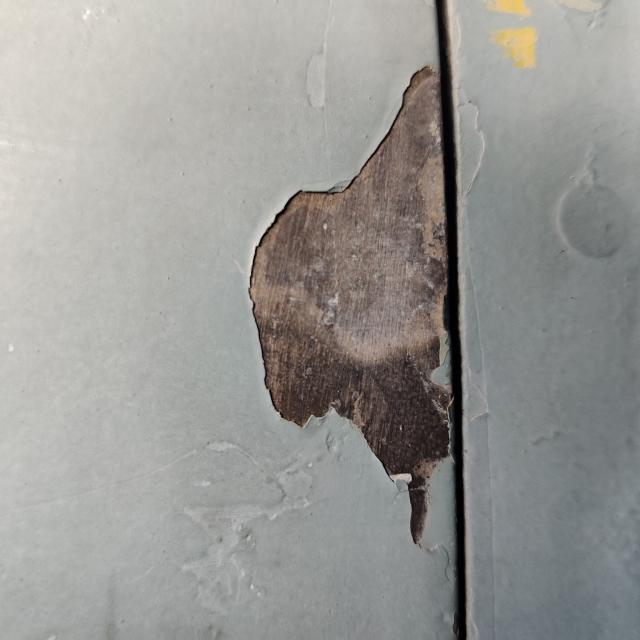paint-off: (220, 38, 567, 576)
